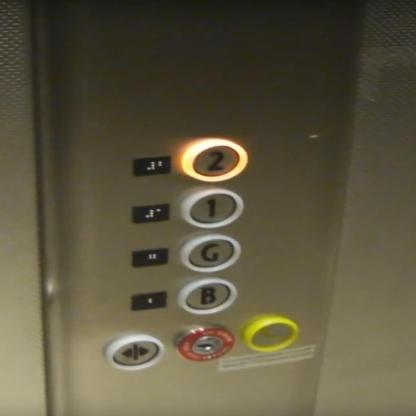1: (177, 186, 247, 230)
2: (176, 136, 252, 184)
B: (174, 276, 237, 315)
G: (177, 232, 243, 274)
blur: (240, 314, 301, 352)
keyhole: (172, 323, 235, 363)
open: (100, 332, 166, 372)
